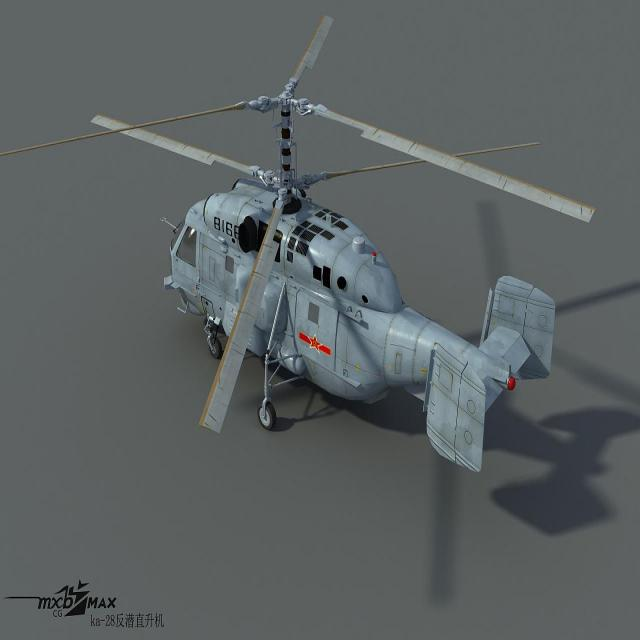MIL_HELO: (6, 10, 606, 491)
